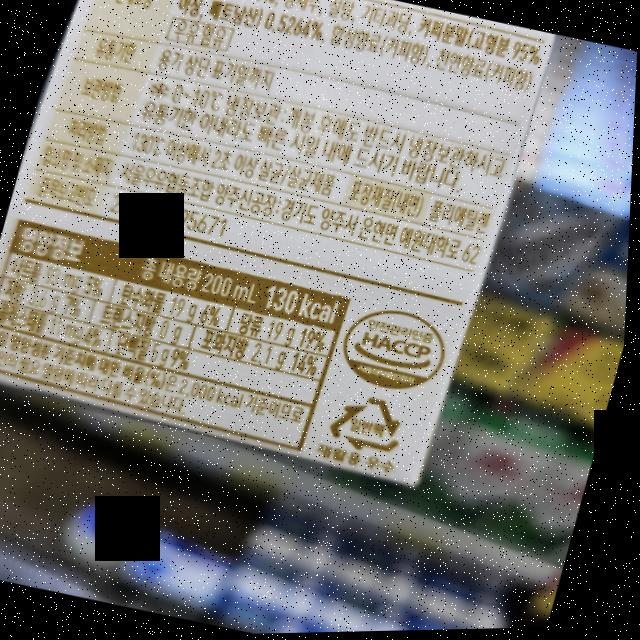NormalPack: (324, 385, 418, 465)
